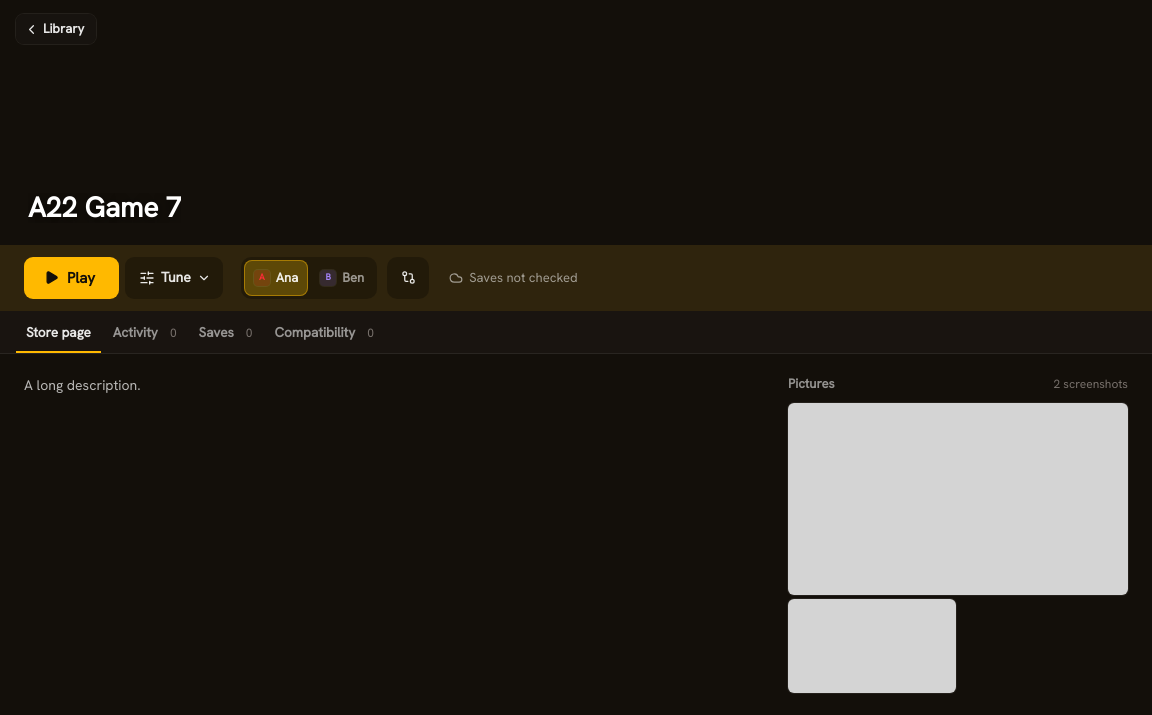
Test: /22 game strip states (issue #137) › multi-copy: segmented chips + an icon compare button that opens the dialog
This screenshot has width=1152, height=715.
Expected: the element named "Launch from" is shown, [241, 257, 377, 299]
Click the button named "Compare copies". click: (408, 278)
box: [387, 257, 429, 299]
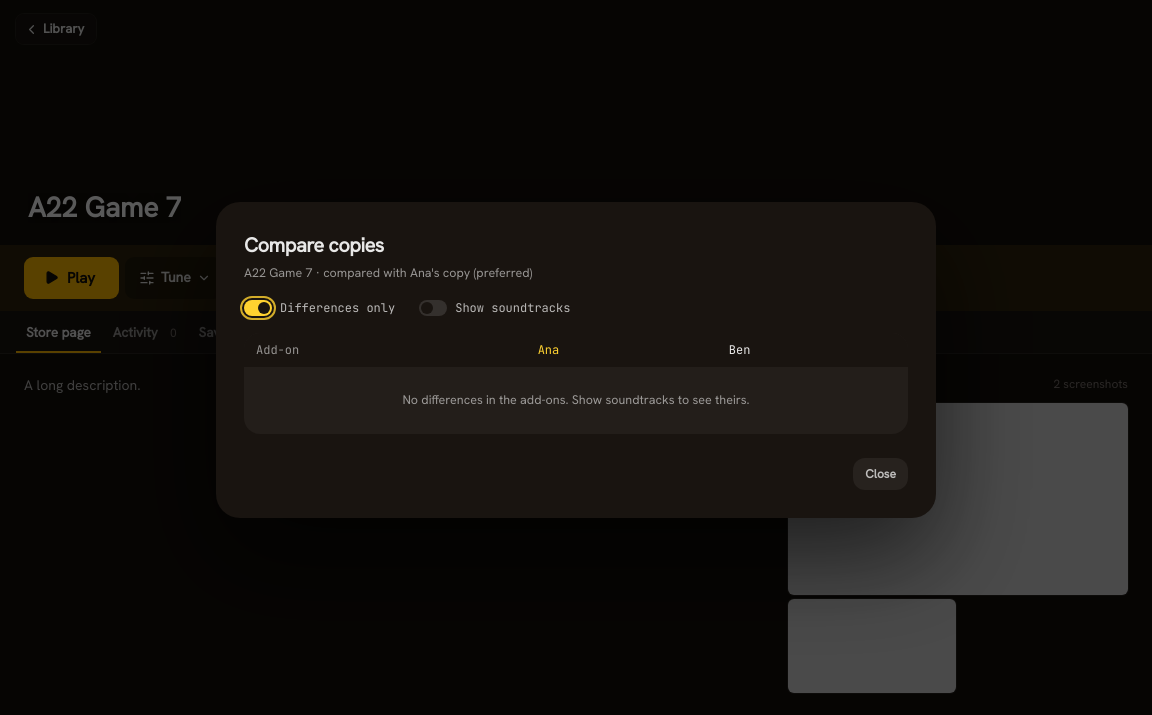
Result: the dialog named "Compare copies of" is shown at [216, 202, 936, 518]
